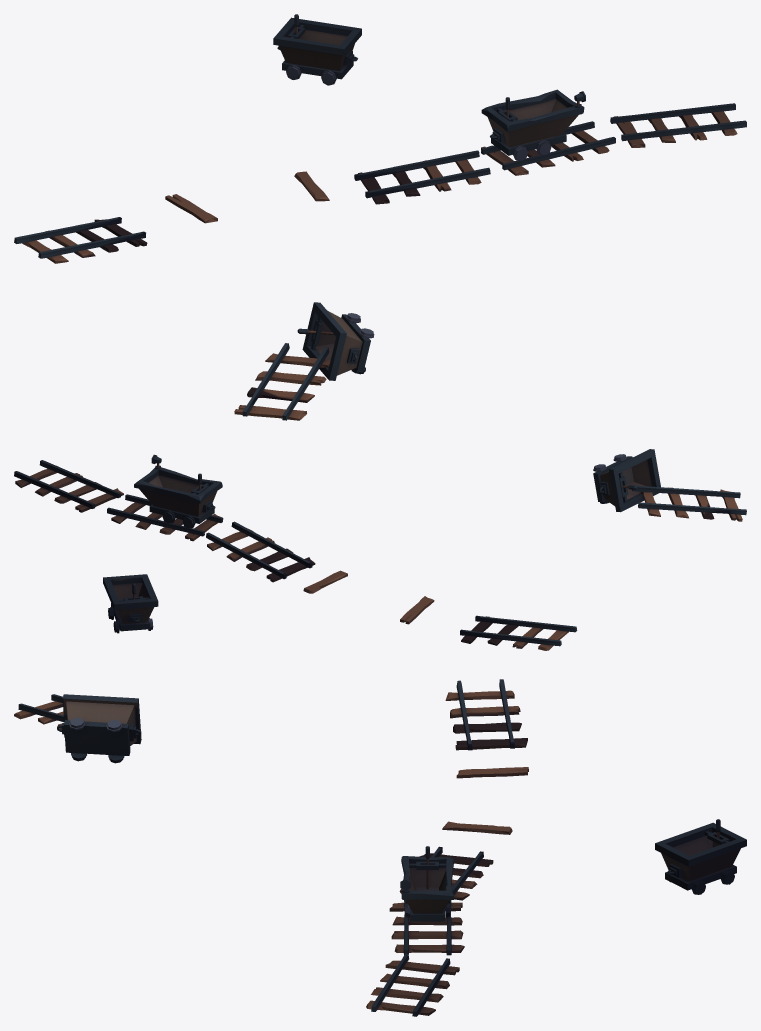
File: Rail_01.FBX
The picture shows the model from 3 angles, top to bottom: view 1: azimuth 30°, elevation 25°; view 2: azimuth 150°, elevation 25°; view 3: azimuth 270°, elevation 25°; orthographic projection. The views are drawn at different scales.
Visible parts, largest first — view 1: Rail_01; view 2: Rail_01; view 3: Rail_01.
Part boxes in pixels (bbox=[...]): Rail_01: bbox=[14, 14, 746, 420]; Rail_01: bbox=[14, 449, 746, 650]; Rail_01: bbox=[14, 679, 746, 1016].
Bounding box in the file's own units: 23.57 × 2.51 × 21.88.
